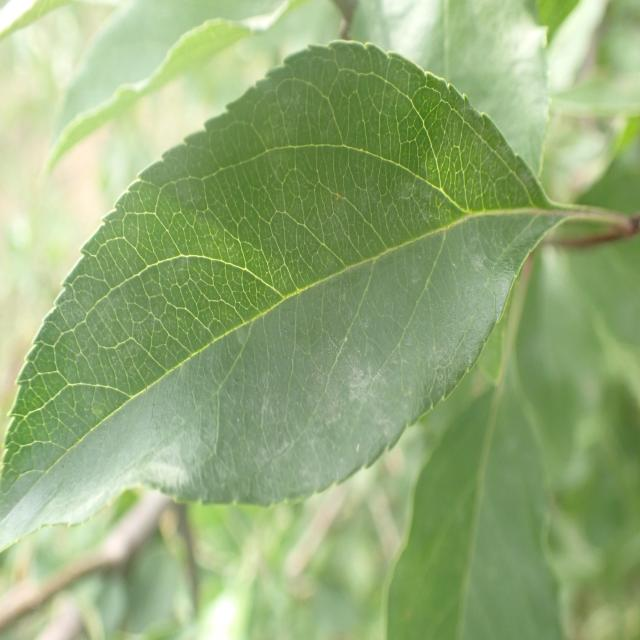Powdery_mildew: (0, 51, 561, 566)
